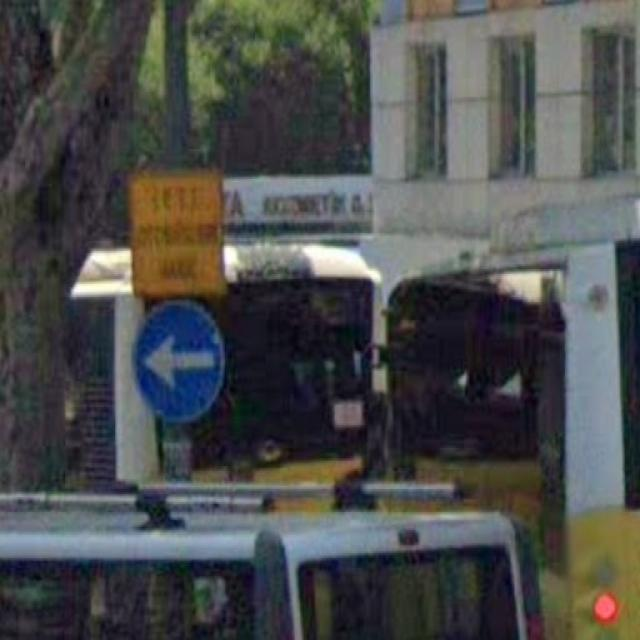Turn Left: (123, 305, 228, 429)
